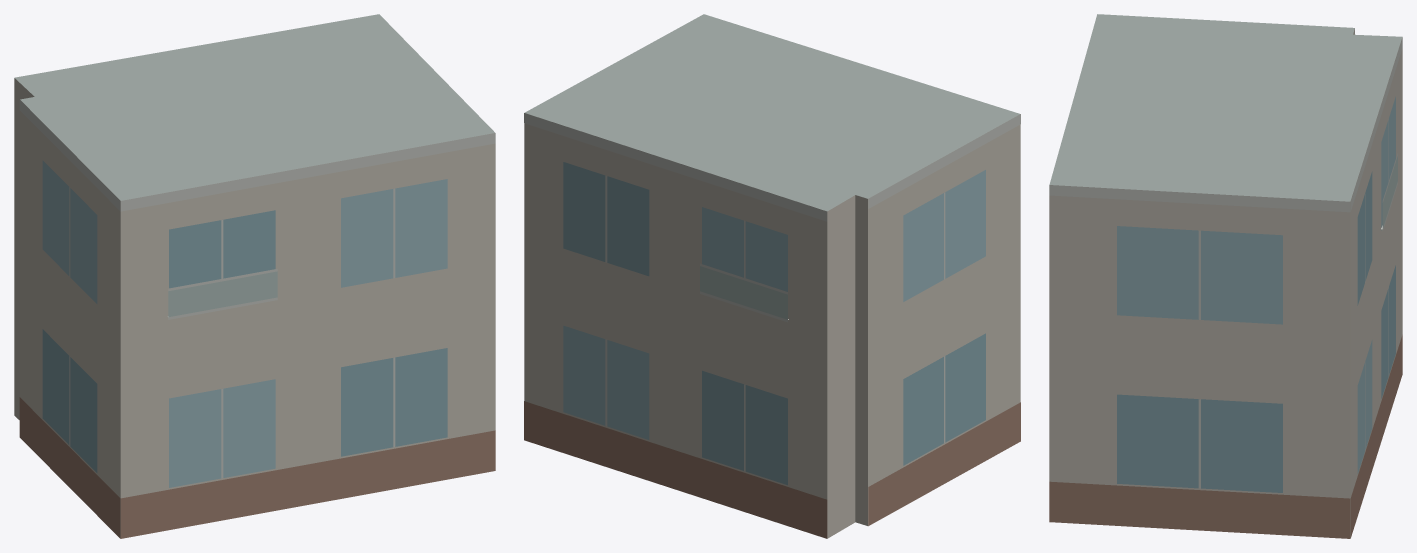
The model's file is survey-upis-33016429.glb.
The picture shows the model from 3 angles, left to right: view 1: azimuth 30°, elevation 25°; view 2: azimuth 150°, elevation 25°; view 3: azimuth 270°, elevation 25°; orthographic projection. The views are drawn at different scales.
Visible parts, largest first — view 1: survey-upis-33016429.tmp; view 2: survey-upis-33016429.tmp; view 3: survey-upis-33016429.tmp.
Boxes of the visible parts, box(x1,y1,x2,y2) form: survey-upis-33016429.tmp: box(14, 14, 495, 538); survey-upis-33016429.tmp: box(524, 14, 1020, 538); survey-upis-33016429.tmp: box(1049, 14, 1402, 538).
Size of the model in its own units: 9.26 by 7.75 by 7.37.
